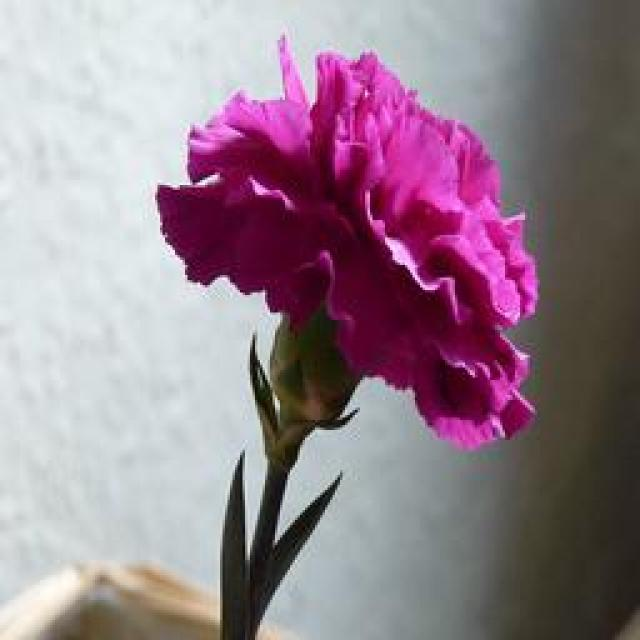carnation: (148, 15, 579, 454)
